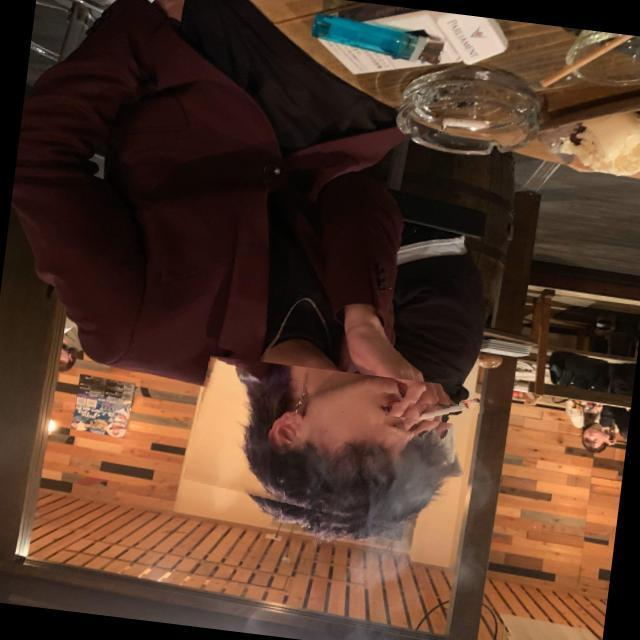cigarette: (386, 394, 498, 429)
